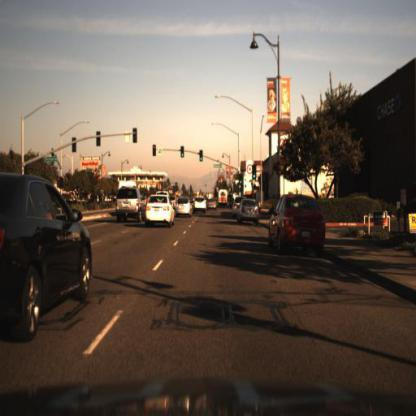car: (1, 171, 96, 339), (267, 188, 328, 258), (268, 192, 329, 252), (115, 186, 151, 226), (143, 192, 177, 230), (239, 197, 262, 223), (175, 195, 193, 221), (195, 195, 209, 218)
trafficLight-Green: (253, 163, 262, 184), (251, 162, 257, 181), (198, 148, 205, 164), (180, 142, 185, 161), (238, 173, 244, 188)
trafficLight-RedLeft: (152, 143, 159, 165)
truck: (217, 187, 229, 207)
